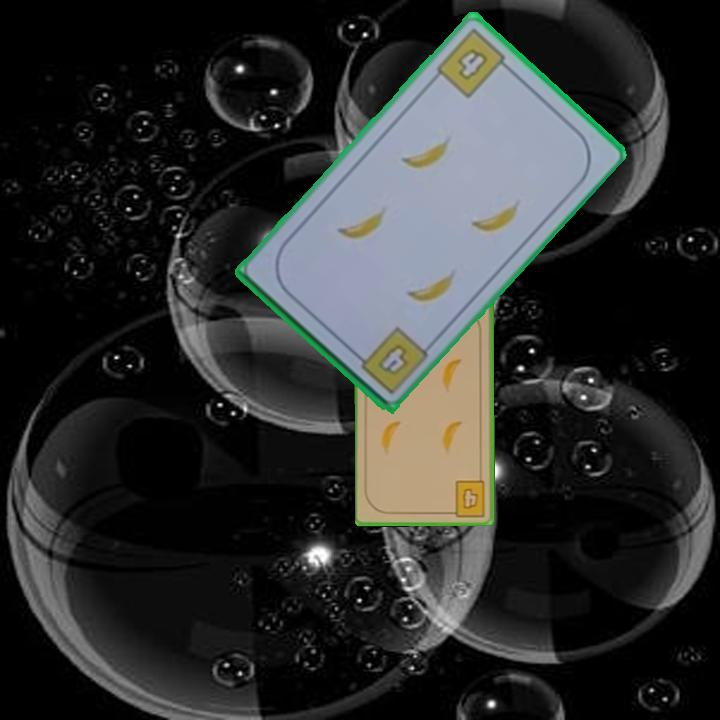4b: (432, 24, 515, 101), (349, 322, 431, 397), (445, 476, 488, 518)
